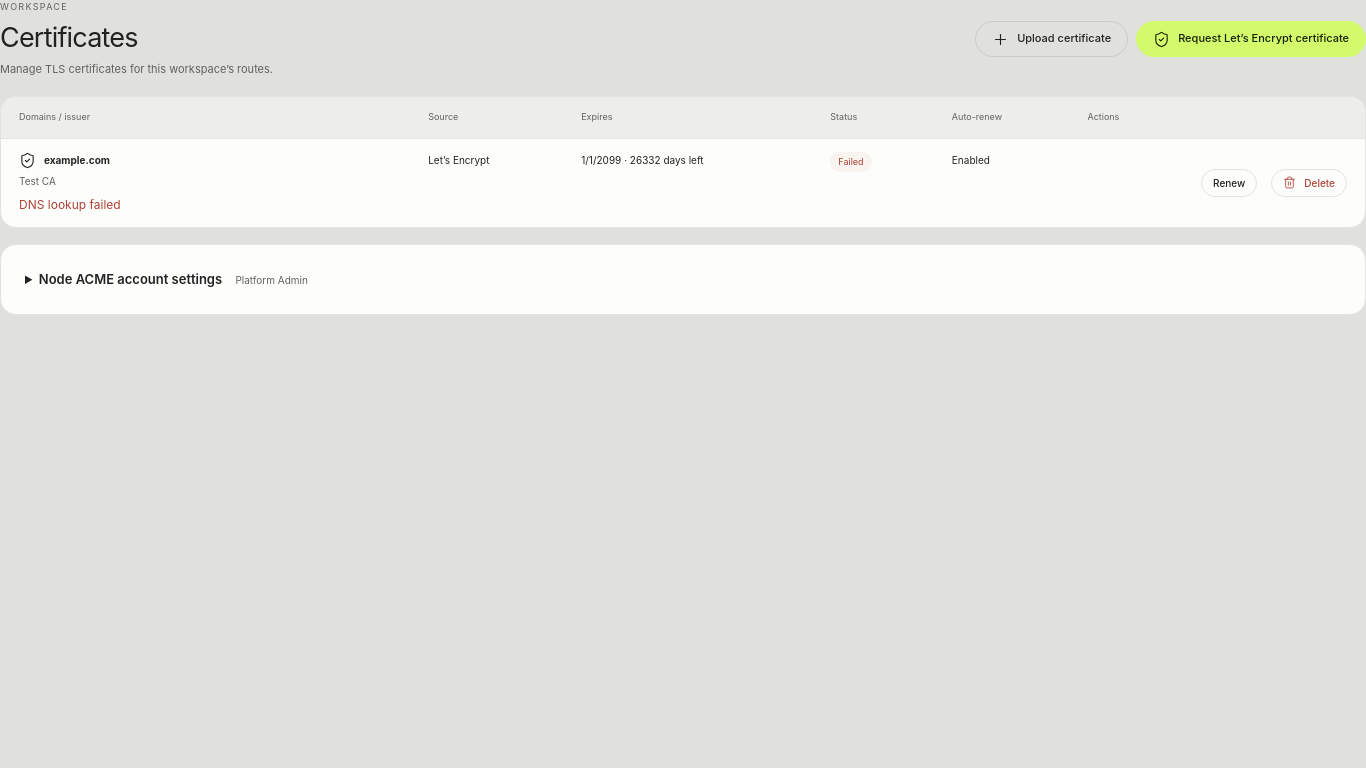
workspace certificates › keeps deletion conflict reasons visible in the confirmation dialog
Expected: the text "Test CA" is shown, [19,175,56,187]
Click the button with aria-label "Delete example.com" at (1309, 183), box [1271,169,1347,197]
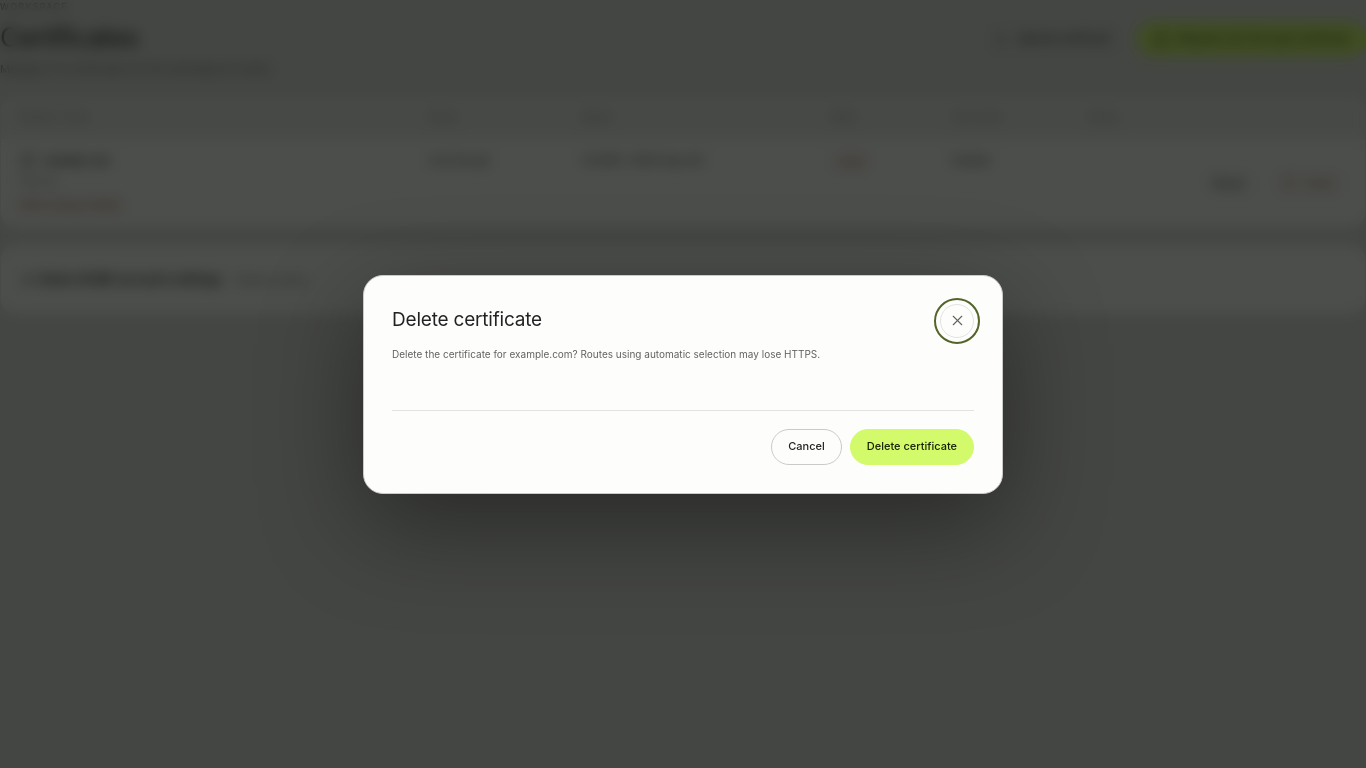
Click the button "Delete certificate" at (912, 446), box [850,428,974,464]
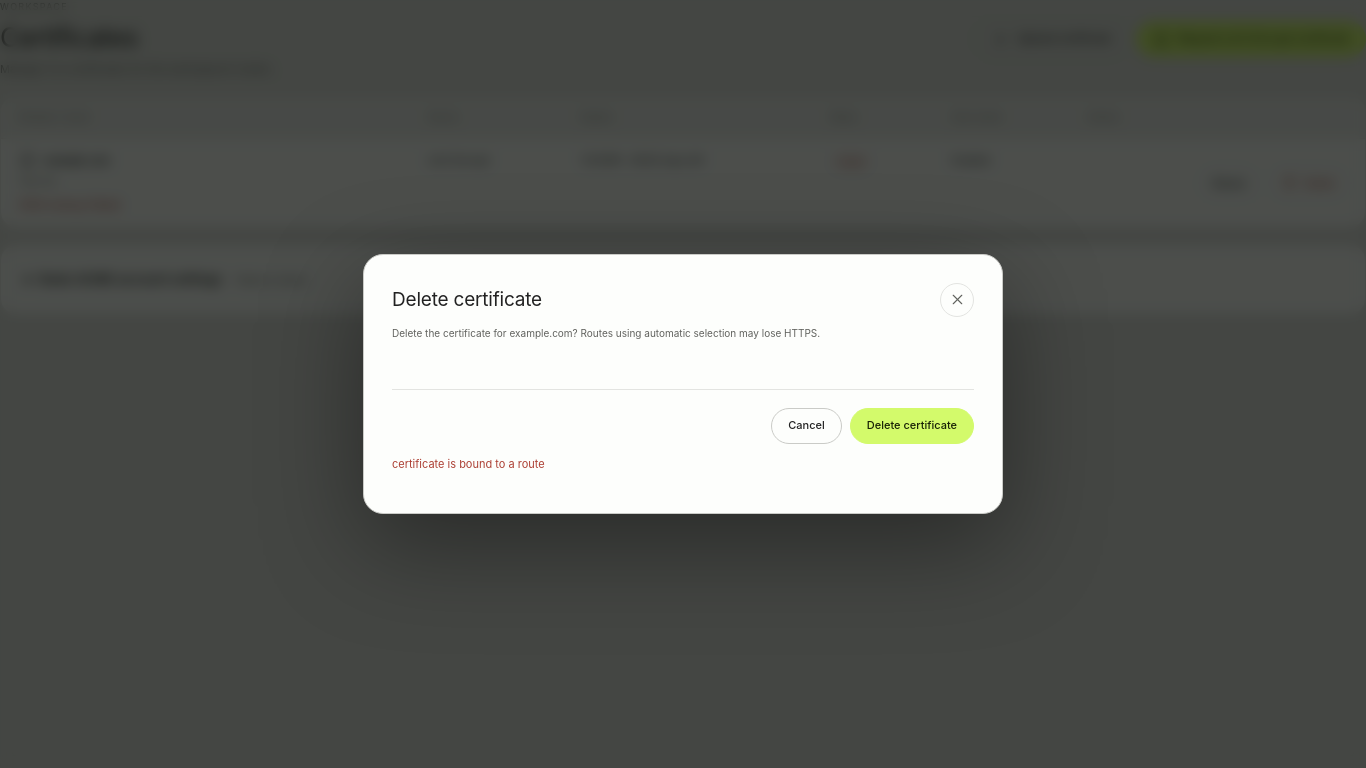
Now the message reads "certificate is bound to a route", box [392,457,545,471]
